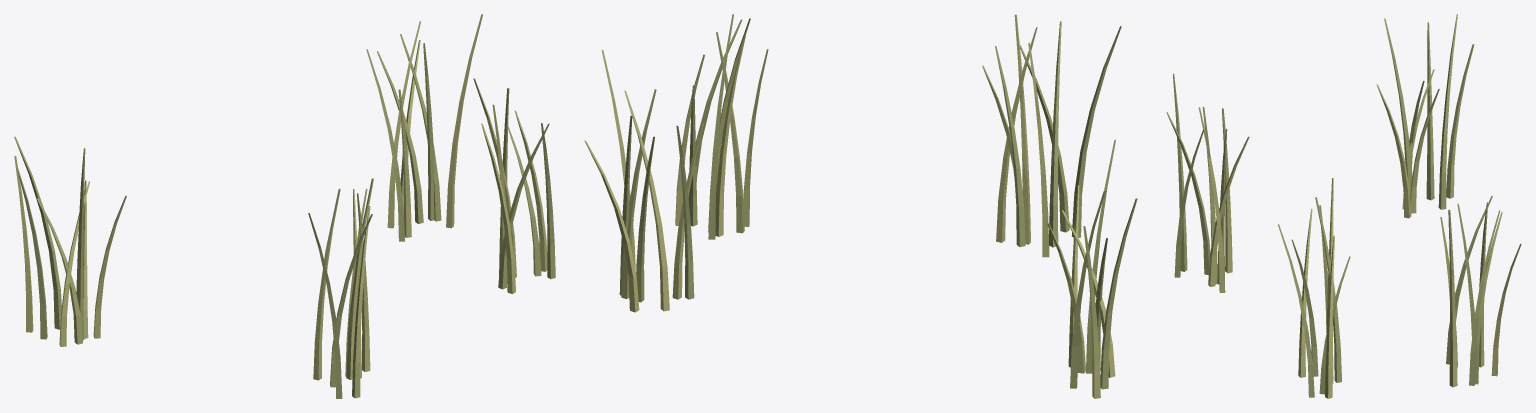
File: 50-Vegetacion_hierba_alta.glb
3 renders of one model, left to right at view 1: azimuth 30°, elevation 25°; view 2: azimuth 150°, elevation 25°; view 3: azimuth 270°, elevation 25°, orthographic. The views are drawn at different scales.
Visible parts, largest first — view 1: SM_HierbaBrizna_M_Hierba_Alta_Osc, SM_HierbaBrizna_M_Hierba_Alta; view 2: SM_HierbaBrizna_M_Hierba_Alta_Osc, SM_HierbaBrizna_M_Hierba_Alta; view 3: SM_HierbaBrizna_M_Hierba_Alta_Osc, SM_HierbaBrizna_M_Hierba_Alta.
Boxes of the visible parts, bbox=[...] form: SM_HierbaBrizna_M_Hierba_Alta_Osc: bbox=[14, 34, 555, 398]; SM_HierbaBrizna_M_Hierba_Alta: bbox=[14, 14, 547, 380]; SM_HierbaBrizna_M_Hierba_Alta_Osc: bbox=[619, 14, 1137, 389]; SM_HierbaBrizna_M_Hierba_Alta: bbox=[584, 14, 1115, 398]; SM_HierbaBrizna_M_Hierba_Alta_Osc: bbox=[1166, 14, 1502, 397]; SM_HierbaBrizna_M_Hierba_Alta: bbox=[1198, 44, 1521, 398].
Bounding box in the file's own units: 1.45 × 0.6 × 1.02.
